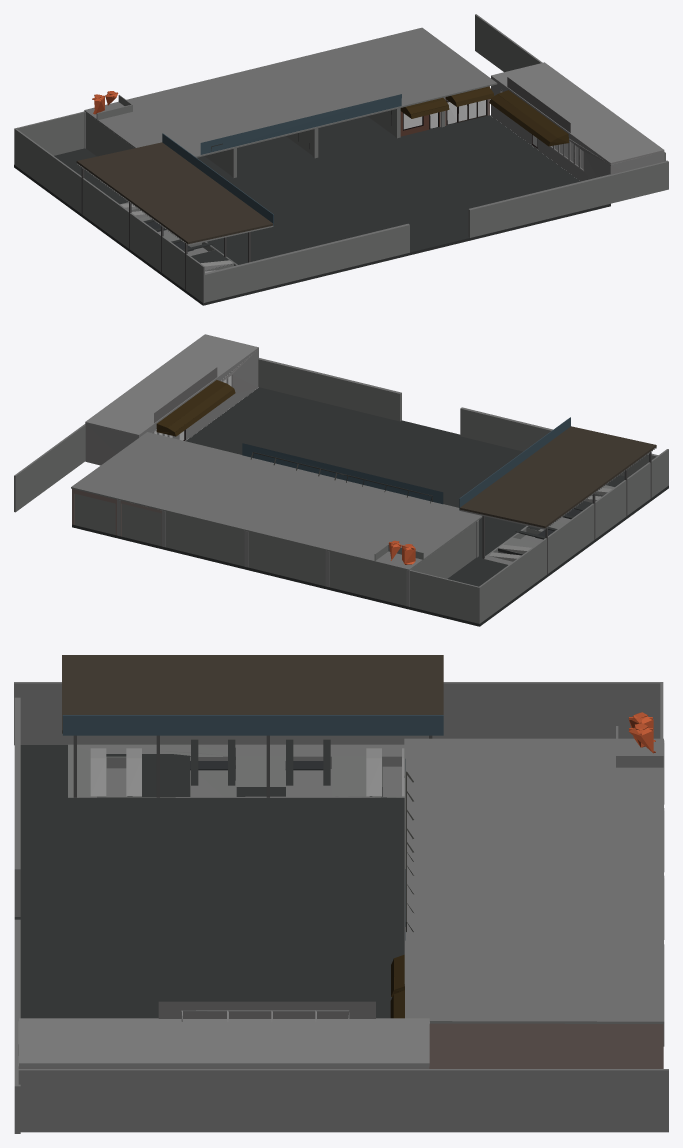
File: car-wash.lod1.glb
The picture shows the model from 3 angles, top to bottom: view 1: azimuth 30°, elevation 25°; view 2: azimuth 150°, elevation 25°; view 3: azimuth 270°, elevation 25°; orthographic projection. The views are drawn at different scales.
Parts seen in each view (by area): view 1: Cube.001_Baked_Cube.001_Baked.006_0; view 2: Cube.001_Baked_Cube.001_Baked.006_0; view 3: Cube.001_Baked_Cube.001_Baked.006_0.
Boxes of the visible parts, box(x1,y1,x2,y2) form: Cube.001_Baked_Cube.001_Baked.006_0: box(14, 14, 668, 305); Cube.001_Baked_Cube.001_Baked.006_0: box(14, 334, 668, 626); Cube.001_Baked_Cube.001_Baked.006_0: box(14, 655, 668, 1133).
Bounding box in the file's own units: 56 × 7.42 × 39.63.
